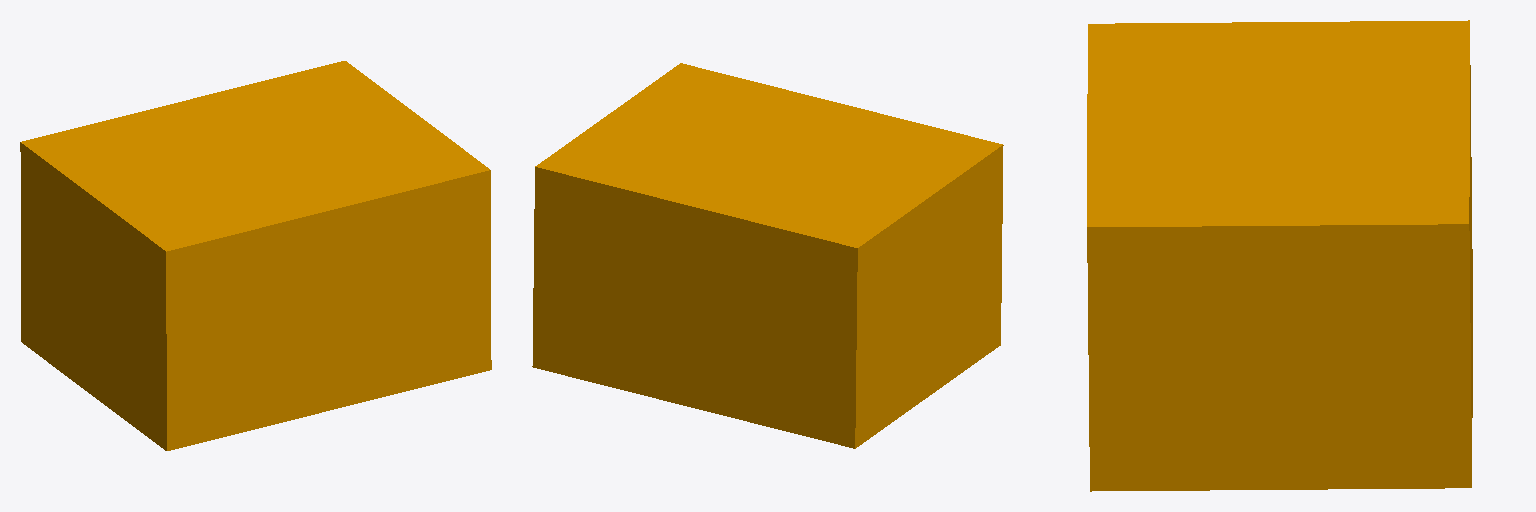
URDF robot description (eggpie):
<?xml version='1.0' encoding='utf-8'?>
<robot name="eggpie">
  <link name="eggpie">
    <visual>
      <origin xyz="0 0 0" rpy="0 0 0" />
      <geometry>
        <mesh filename="eggpie.obj" scale="1 1 1" />
      </geometry>
    </visual>
    <collision>
      <origin xyz="0 0 0" rpy="0 0 0" />
      <geometry>
        <mesh filename="eggpie_collision/decomp_0.obj" scale="1 1 1" />
      </geometry>
    </collision>
    <inertial>
      <origin xyz="1.14488e-14 8.49834e-15 -5.08392e-15" rpy="0 0 0" />
      <mass value="0.316593" />
      <inertia ixx="0.000335599" ixy="1.52395e-07" ixz="-1.69278e-06" iyy="0.000470116" iyz="-8.87695e-07" izz="0.000558856" />
    </inertial>
  </link>
</robot>

--- What the picture shows (computed from the rendered views, not written in the file) ---
Views: 3 orthographic renders of the robot side by side, from view 1: azimuth 30°, elevation 25°; view 2: azimuth 150°, elevation 25°; view 3: azimuth 270°, elevation 25°.
Model eggpie with 1 links and 0 joints (none), rooted at eggpie, posed every joint at zero.
Visible links, largest first — view 1: eggpie; view 2: eggpie; view 3: eggpie.
Link boxes in pixels (x1,y1,x2,y2): eggpie: (20,61,491,450); eggpie: (532,63,1003,448); eggpie: (1087,20,1472,491).
Size in the robot's own frame: 0.114 by 0.0893 by 0.0689 metres.
Meshes: 1 distinct files referenced, 1 mesh visuals loaded (1 OBJ).
